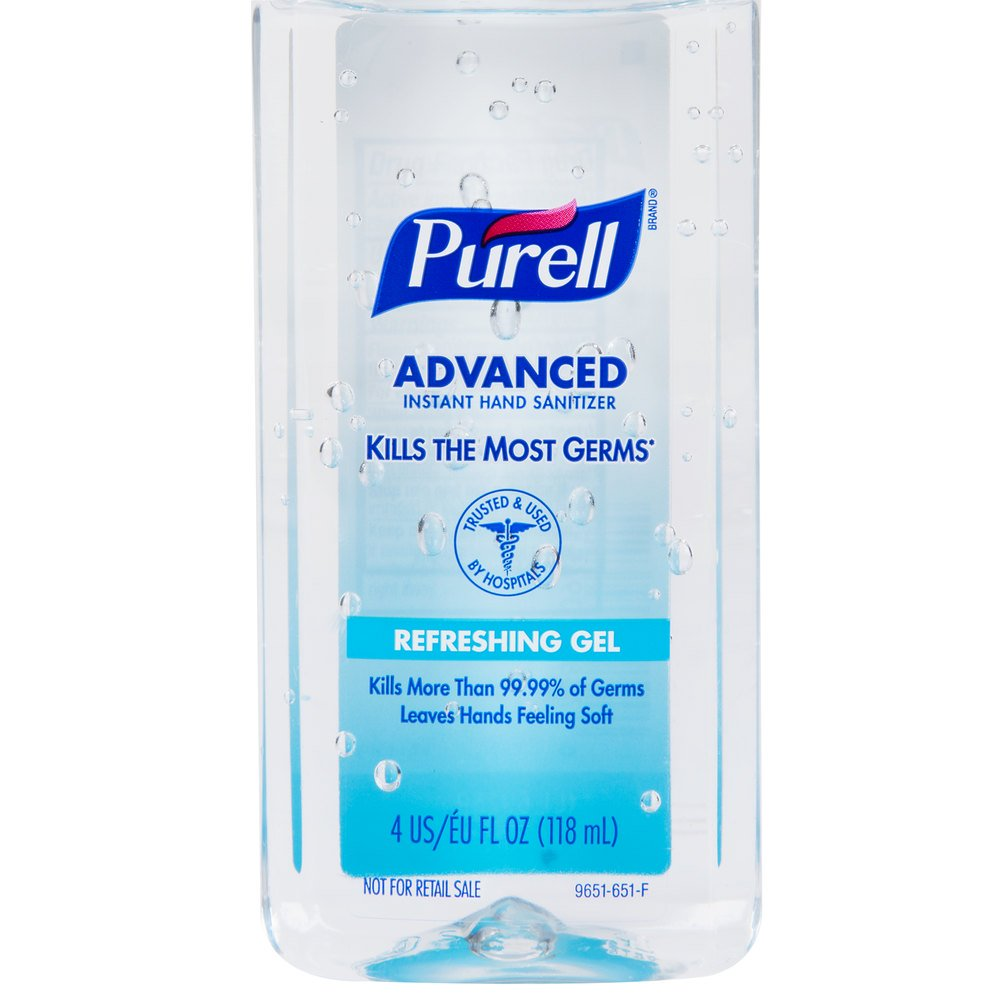Sanitizer: (237, 1, 775, 993)
